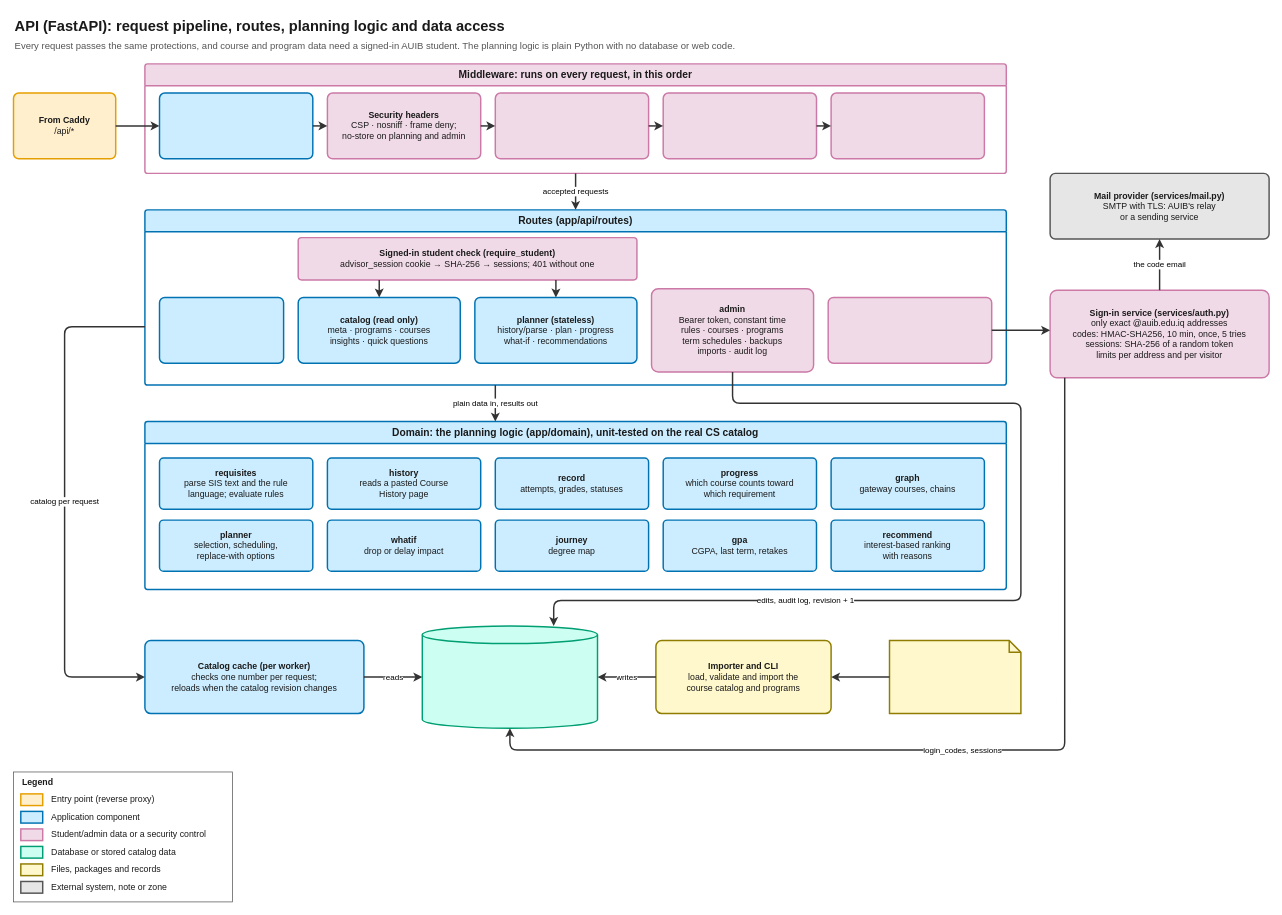
Some shapes in this 1282 by 915 pixel diagram are drawn without their labels. The centre of each missing label's shape, as x and y in pixels:
auth (open) request-code · verify me · sign-out: the point at 909,330
Body size limit 512 KB; admin uploads 8 MB (Caddy: 1 MB; admin 8 MB): the point at 571,125
data/catalog data/programs courses, majors, minors: the point at 954,676
health /api/health /api/ready: the point at 221,330
Input validation Pydantic: bounded fields; errors never echo input: the point at 907,125
PostgreSQL SQLAlchemy models, Alembic migrations: the point at 509,677
Rate limit 60 requests a minute per client: planning and sign-in: the point at 739,125
Request log request ID, method, path, status, time; never bodies: the point at 235,125
